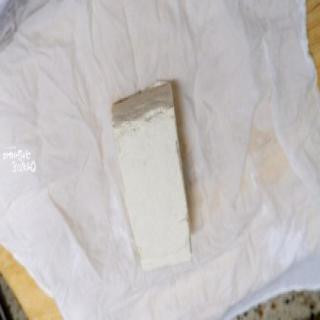Tahu: (111, 81, 192, 275)
